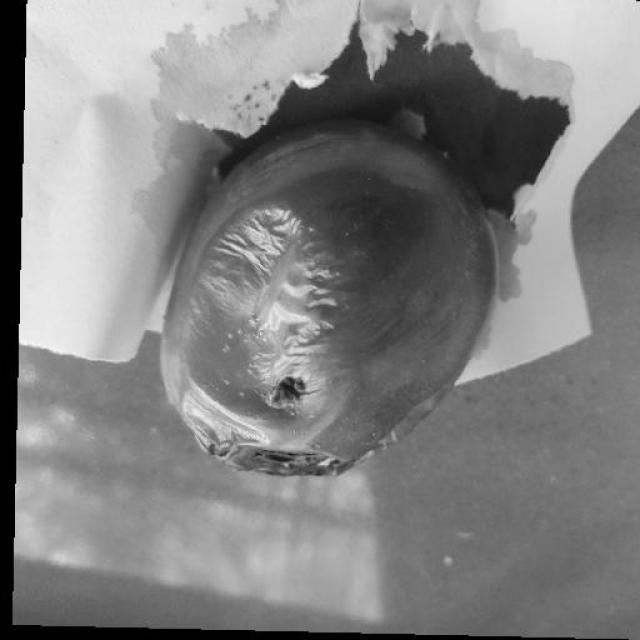Stale_tomato: (166, 139, 503, 477)
